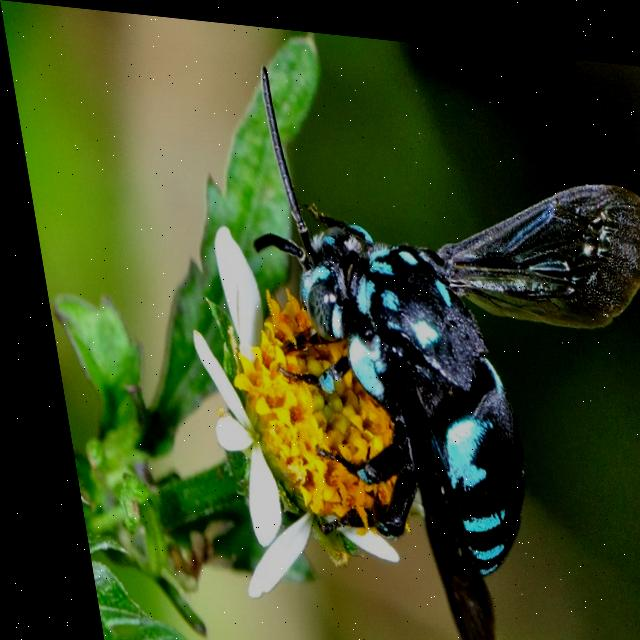Thyreus: (219, 48, 640, 640)
